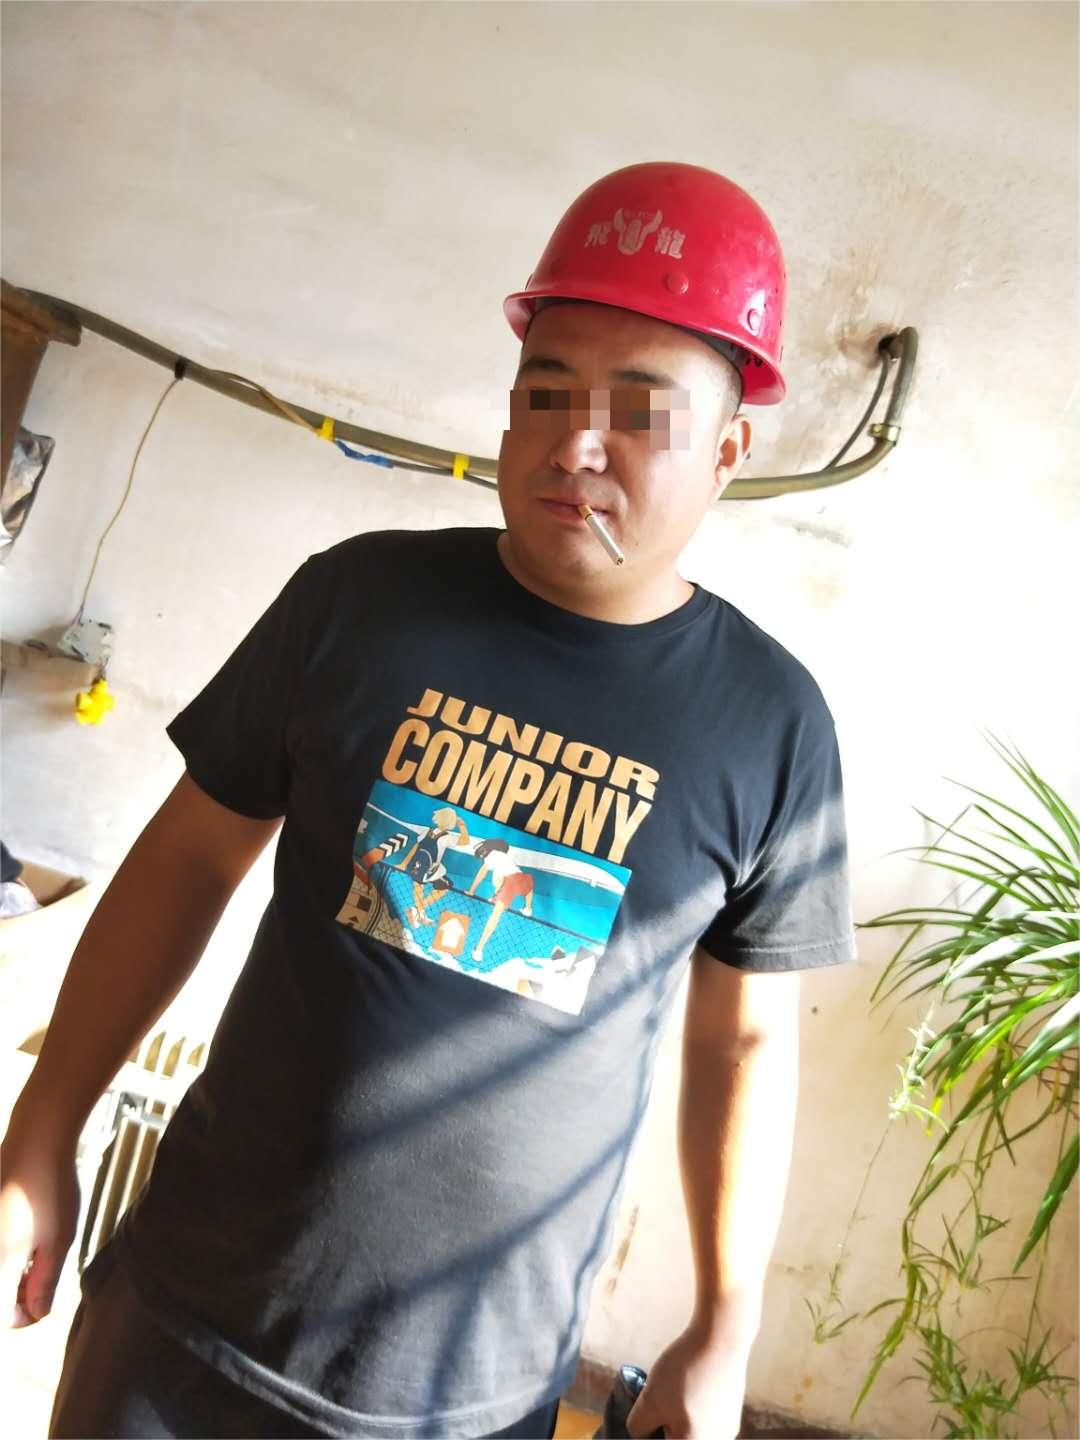smoke: (580, 501, 634, 573)
